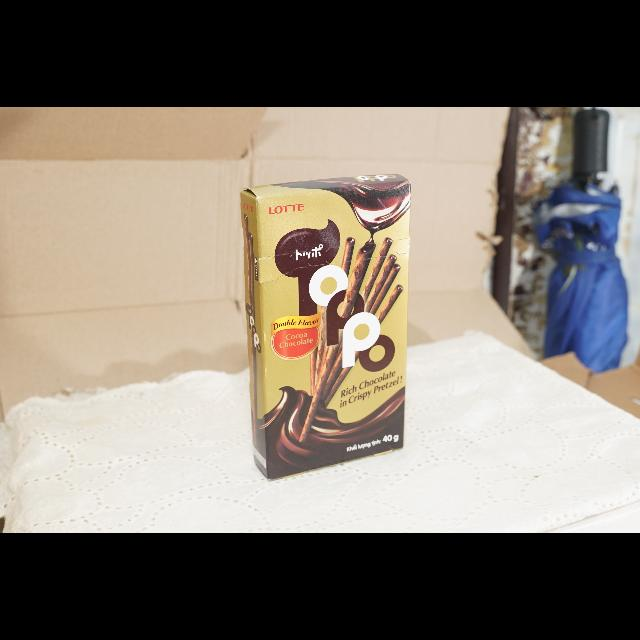banh_toppo_socola: (241, 174, 411, 479)
